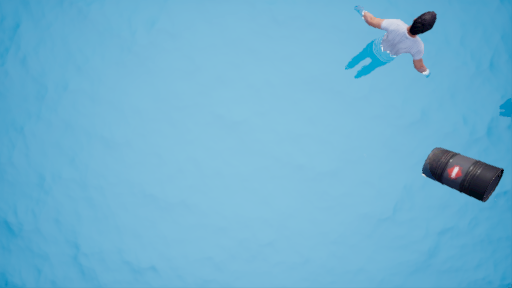person: (345, 5, 438, 87)
